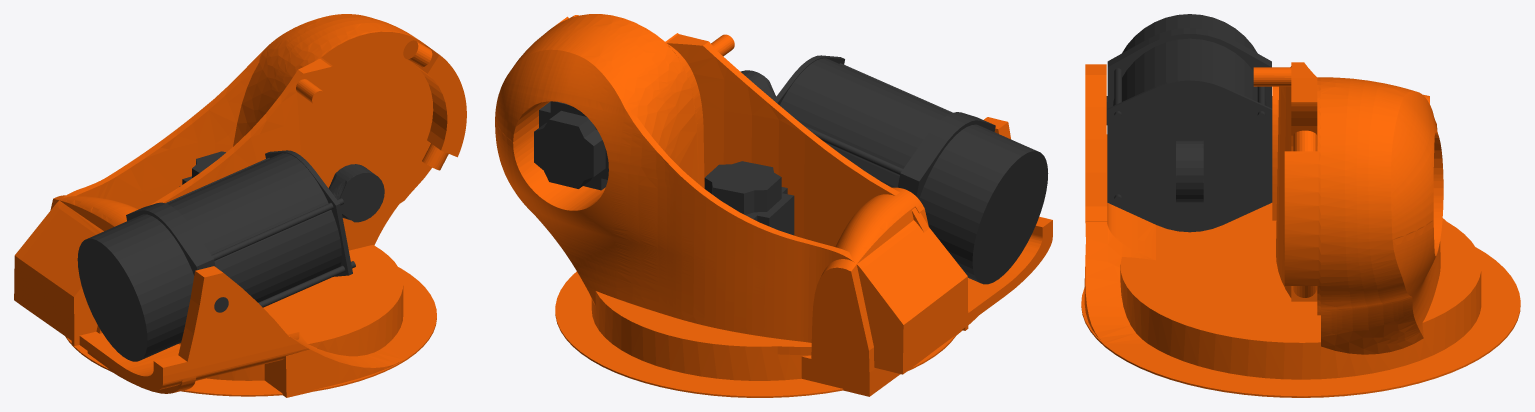
The picture shows the model from 3 angles, left to right: view 1: azimuth 30°, elevation 25°; view 2: azimuth 150°, elevation 25°; view 3: azimuth 270°, elevation 25°; orthographic projection. The views are drawn at different scales.
Visible parts, largest first — view 1: node0, node2, node1, node6, node5, node4; view 2: node0, node2, node3, node4; view 3: node0, node2, node5.
Boxes of the visible parts, x1,y1,x2,y2 form: node0: [14, 14, 466, 397]; node2: [77, 150, 355, 361]; node1: [321, 31, 433, 193]; node6: [305, 83, 409, 221]; node5: [328, 164, 384, 222]; node4: [179, 151, 225, 186]; node0: [495, 14, 1052, 397]; node2: [773, 55, 1048, 284]; node3: [534, 101, 608, 190]; node4: [704, 161, 794, 235]; node0: [1081, 62, 1520, 397]; node2: [1106, 14, 1272, 232]; node5: [1176, 140, 1203, 202].
Bounding box in the file's own units: 1.14 × 0.9199 × 0.664.
